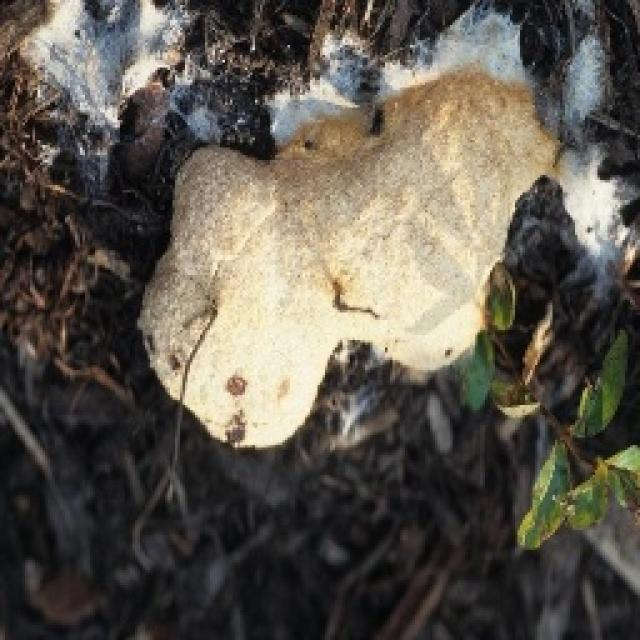Dog_vomit_slime_mold: (113, 54, 544, 446)
